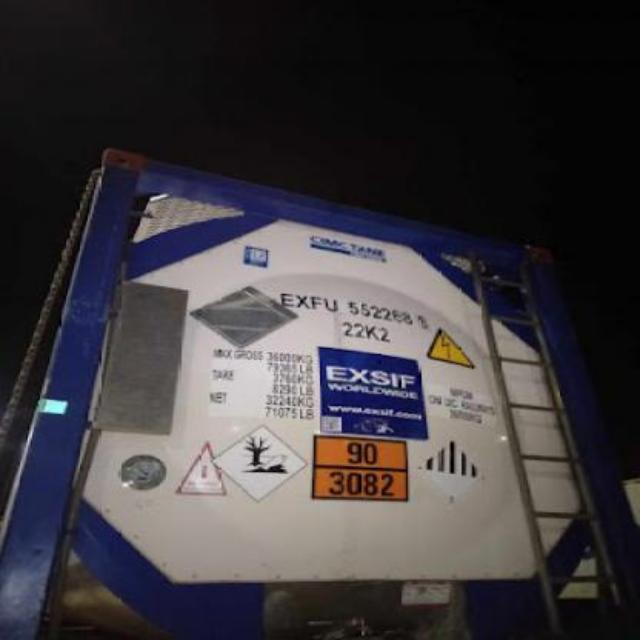2: (368, 298, 382, 324), (382, 301, 394, 325)
5: (358, 293, 370, 319), (344, 294, 358, 316)
6: (392, 292, 402, 328)
8: (402, 304, 414, 328), (416, 308, 428, 332)
E: (280, 288, 294, 308)
F: (310, 290, 322, 314)
U: (322, 290, 340, 316)
X: (294, 288, 310, 310)
